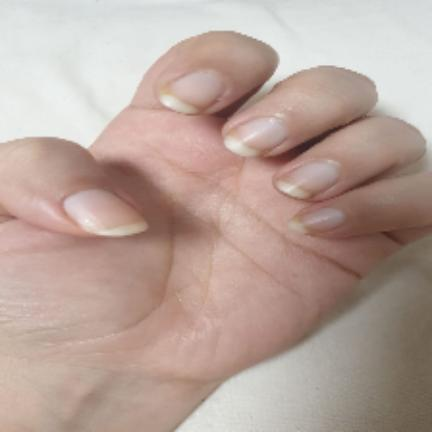Nail: (63, 189, 148, 236), (159, 69, 224, 114), (275, 159, 339, 199), (224, 117, 287, 156), (289, 208, 345, 234)
